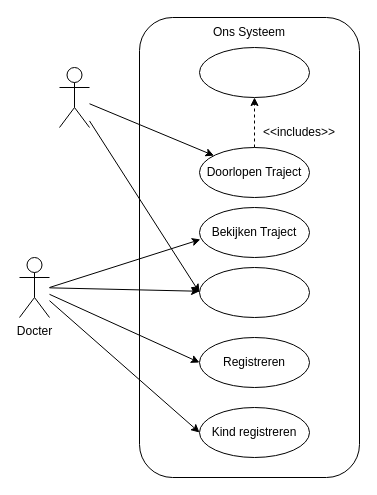
Some shapes in this 377 by 495 pixel diagram are drawn without their labels. The shapes that lost their labels are listed below. From the top down, each one's centre as x and y in pixels, then its label:
At [254,72]: "Stickers verzamelen".
At [74,97]: "Kind".
At [254,292]: "Login".
